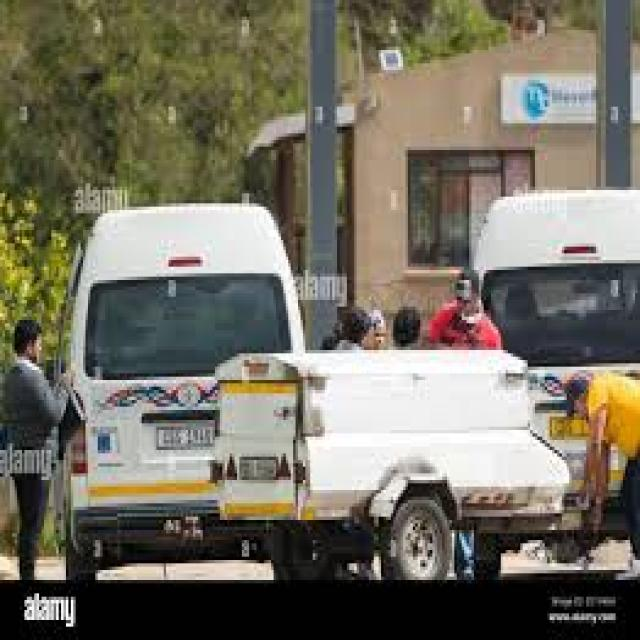MiniBus taxi: (66, 200, 315, 580)
Pedestrians: (2, 320, 76, 580)
